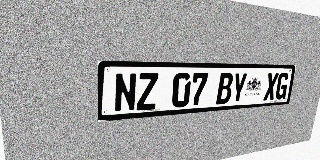0: (171, 73, 191, 108)
7: (189, 73, 208, 107)
B: (216, 73, 234, 104)
G: (274, 73, 290, 100)
N: (114, 73, 137, 112)
X: (263, 73, 279, 101)
Y: (230, 73, 248, 103)
Z: (136, 73, 158, 111)
